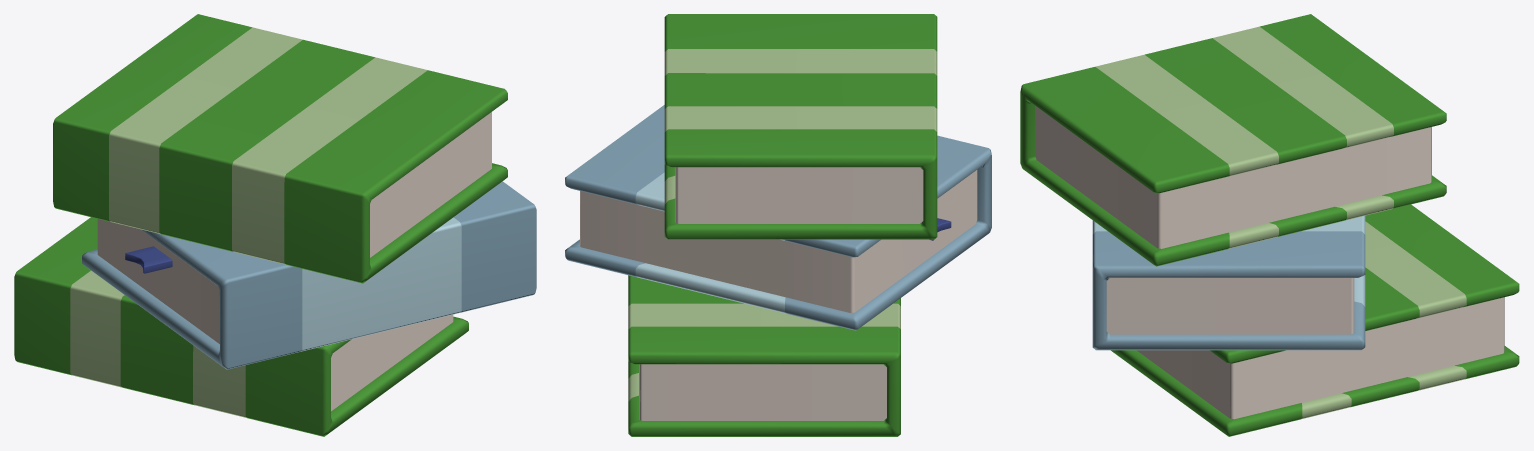
Rendered from Books_11.glb.
The picture shows the model from 3 angles, left to right: view 1: azimuth 30°, elevation 25°; view 2: azimuth 150°, elevation 25°; view 3: azimuth 270°, elevation 25°; orthographic projection. The views are drawn at different scales.
Visible parts, largest first — view 1: Books_11; view 2: Books_11; view 3: Books_11.
Part boxes in pixels (bbox=[...]): Books_11: bbox=[14, 14, 536, 436]; Books_11: bbox=[565, 14, 991, 436]; Books_11: bbox=[1020, 14, 1519, 436].
Bounding box in the file's own units: 0.3718 × 0.2606 × 0.4614.
Materials: 1 (1 with a texture image).
